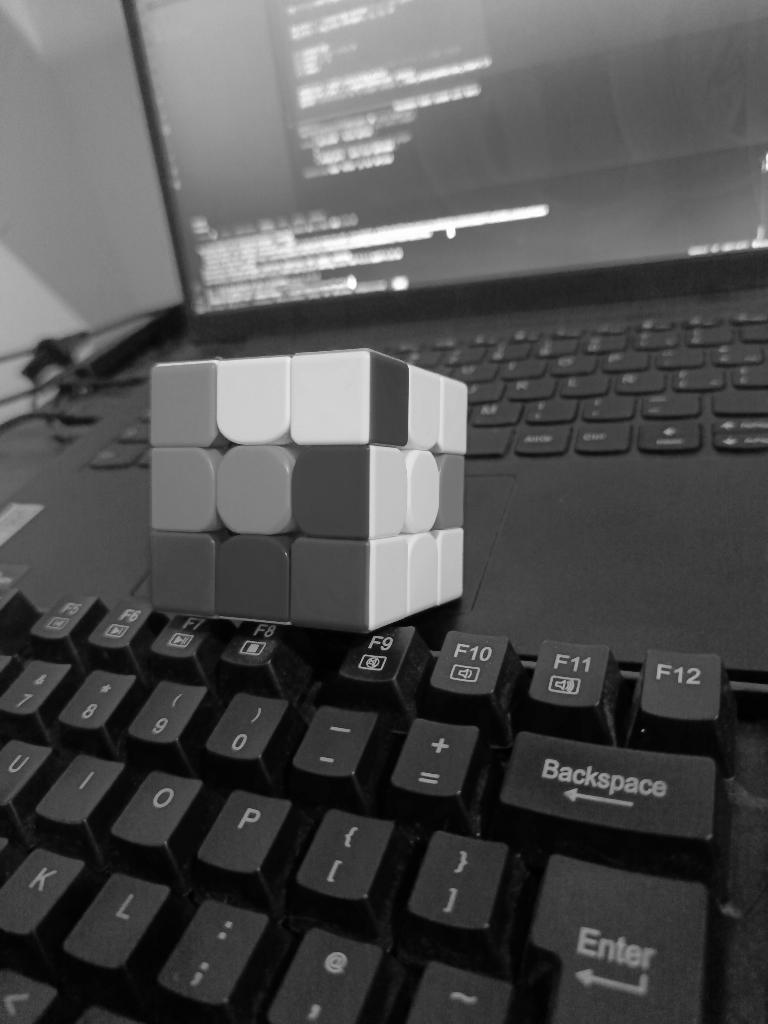rubik: (146, 347, 470, 633)
